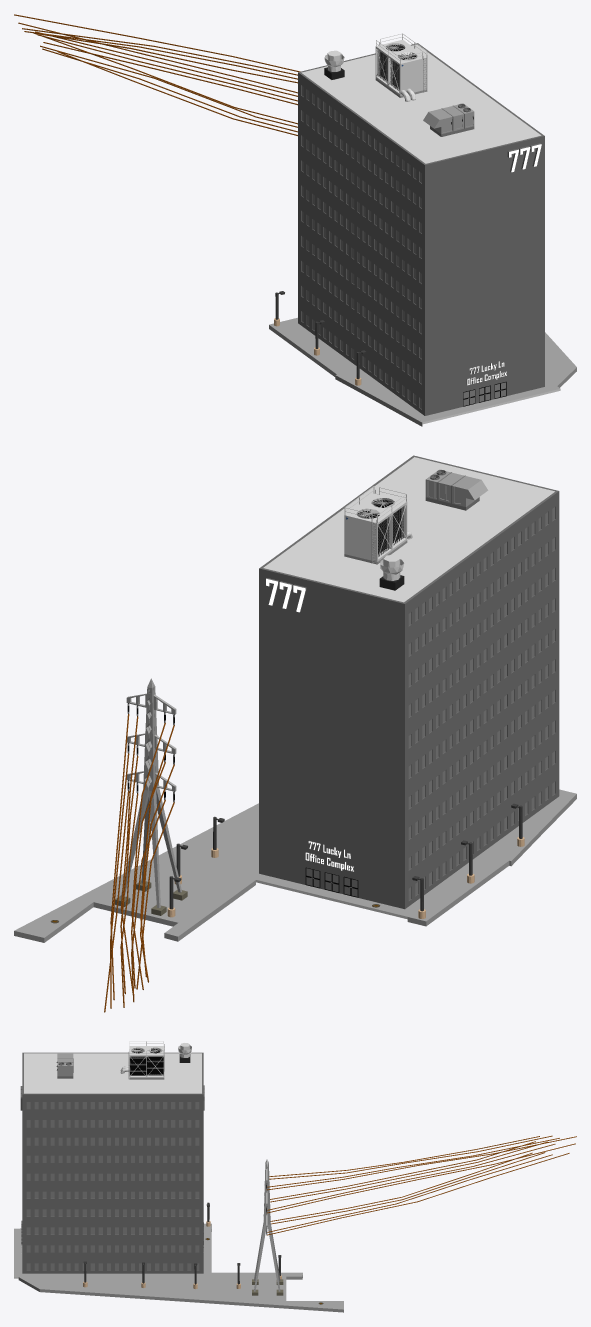
File: Financial Building.glb
The picture shows the model from 3 angles, top to bottom: view 1: azimuth 30°, elevation 25°; view 2: azimuth 150°, elevation 25°; view 3: azimuth 270°, elevation 25°; orthographic projection. The views are drawn at different scales.
Parts seen in each view (by area): view 1: Ext Walls, Floor, Wires, CT, Floor & Ground, Ground.001, RTU HP, Ground, Signs, Door.001, Streetlights; view 2: Ext Walls, Floor, Ground, Wires, Elec, CT, Floor & Ground, Ground.001, RTU HP, Streetlights, Signs, Door.001 (+1 smaller); view 3: Ext Walls, Ground, Floor, Wires, Floor & Ground, CT, Elec, Streetlights, RTU HP.
Boxes of the visible parts, left/top/right/bottom form: Ext Walls: left=298, top=43, right=544, bottom=415; Floor: left=301, top=44, right=541, bottom=163; Wires: left=14, top=14, right=300, bottom=135; CT: left=375, top=33, right=427, bottom=101; Floor & Ground: left=284, top=317, right=560, bottom=424; Ground.001: left=269, top=321, right=422, bottom=426; RTU HP: left=423, top=103, right=474, bottom=136; Ground: left=545, top=332, right=576, bottom=387; Signs: left=466, top=143, right=541, bottom=385; Door.001: left=463, top=381, right=506, bottom=406; Streetlights: left=274, top=291, right=366, bottom=385; Ext Walls: left=259, top=455, right=559, bottom=909; Floor: left=263, top=457, right=554, bottom=602; Ground: left=14, top=803, right=258, bottom=942; Wires: left=104, top=714, right=174, bottom=1012; Elec: left=115, top=678, right=187, bottom=915; CT: left=344, top=486, right=412, bottom=564; Floor & Ground: left=240, top=789, right=575, bottom=919; Ground.001: left=407, top=793, right=576, bottom=926; RTU HP: left=425, top=469, right=488, bottom=510; Streetlights: left=167, top=803, right=524, bottom=918; Signs: left=266, top=578, right=354, bottom=871; Door.001: left=305, top=867, right=358, bottom=897; Ext Walls: left=22, top=1052, right=203, bottom=1273; Ground: left=18, top=1272, right=343, bottom=1312; Floor: left=24, top=1053, right=201, bottom=1093; Wires: left=266, top=1135, right=576, bottom=1235; Floor & Ground: left=14, top=1228, right=211, bottom=1278; CT: left=120, top=1041, right=164, bottom=1079; Elec: left=252, top=1159, right=283, bottom=1295; Streetlights: left=83, top=1202, right=281, bottom=1289; RTU HP: left=56, top=1053, right=73, bottom=1078.
Size of what is drawn, in the model's own units: 38.52 by 43.05 by 104.
